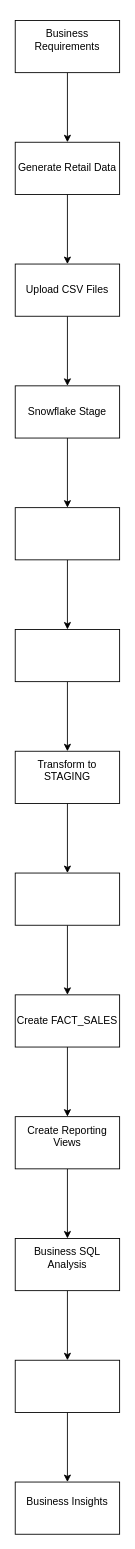
This 135x1549 diagram has some shape labels left out. The centre of each missing label's shape, as x and y in pixels:
"Create Dimensions" belongs at point (67, 898).
"Load RAW Tables" belongs at point (67, 533).
"Power BI Dashboard" belongs at point (67, 1385).
"Validate Data" belongs at point (67, 655).
